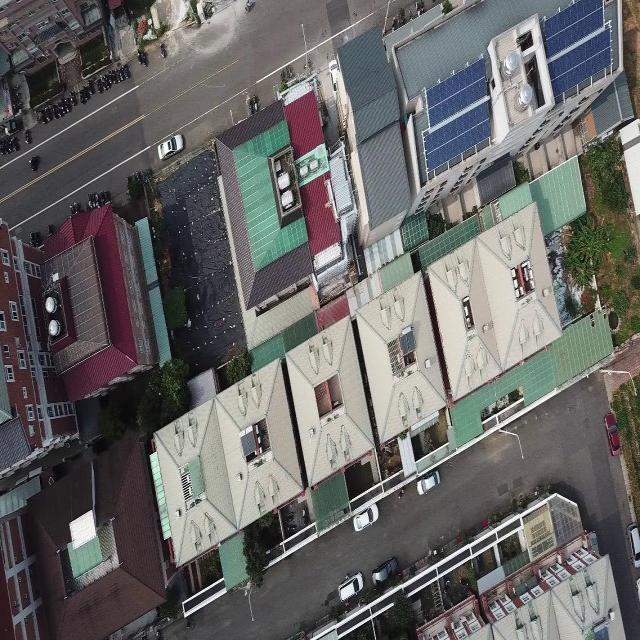bike: (244, 0, 256, 13)
car: (372, 554, 400, 590), (604, 409, 622, 456), (338, 571, 363, 604), (157, 133, 184, 160), (352, 503, 378, 531), (417, 469, 440, 496), (627, 521, 639, 568)
